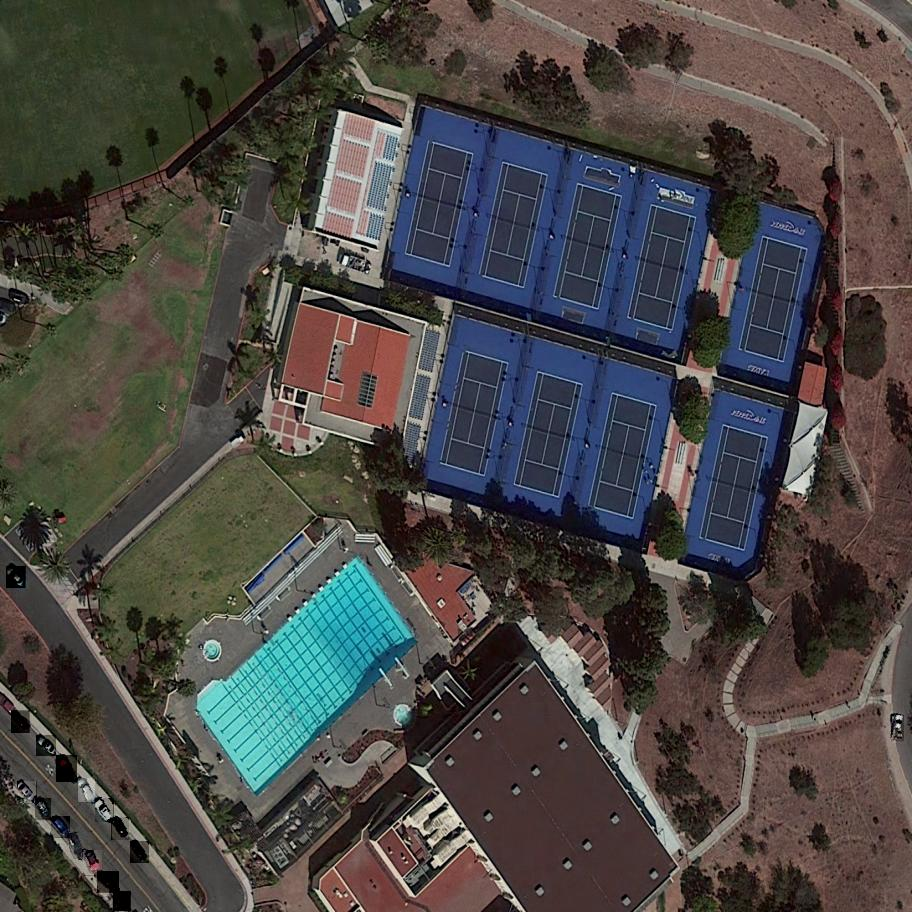small-vehicle: (56, 755, 78, 782), (96, 871, 122, 893), (10, 710, 33, 734), (94, 798, 116, 823), (82, 851, 103, 876), (69, 833, 88, 859), (6, 566, 28, 588), (129, 841, 150, 864), (51, 816, 72, 839), (36, 735, 58, 756), (18, 782, 39, 804), (78, 778, 96, 803), (112, 817, 131, 840), (35, 798, 53, 821), (891, 715, 904, 742)
